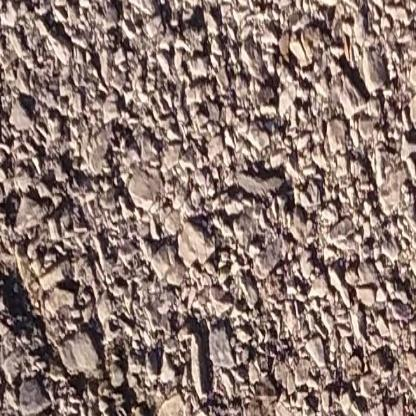Cracks: (0, 257, 160, 416)
